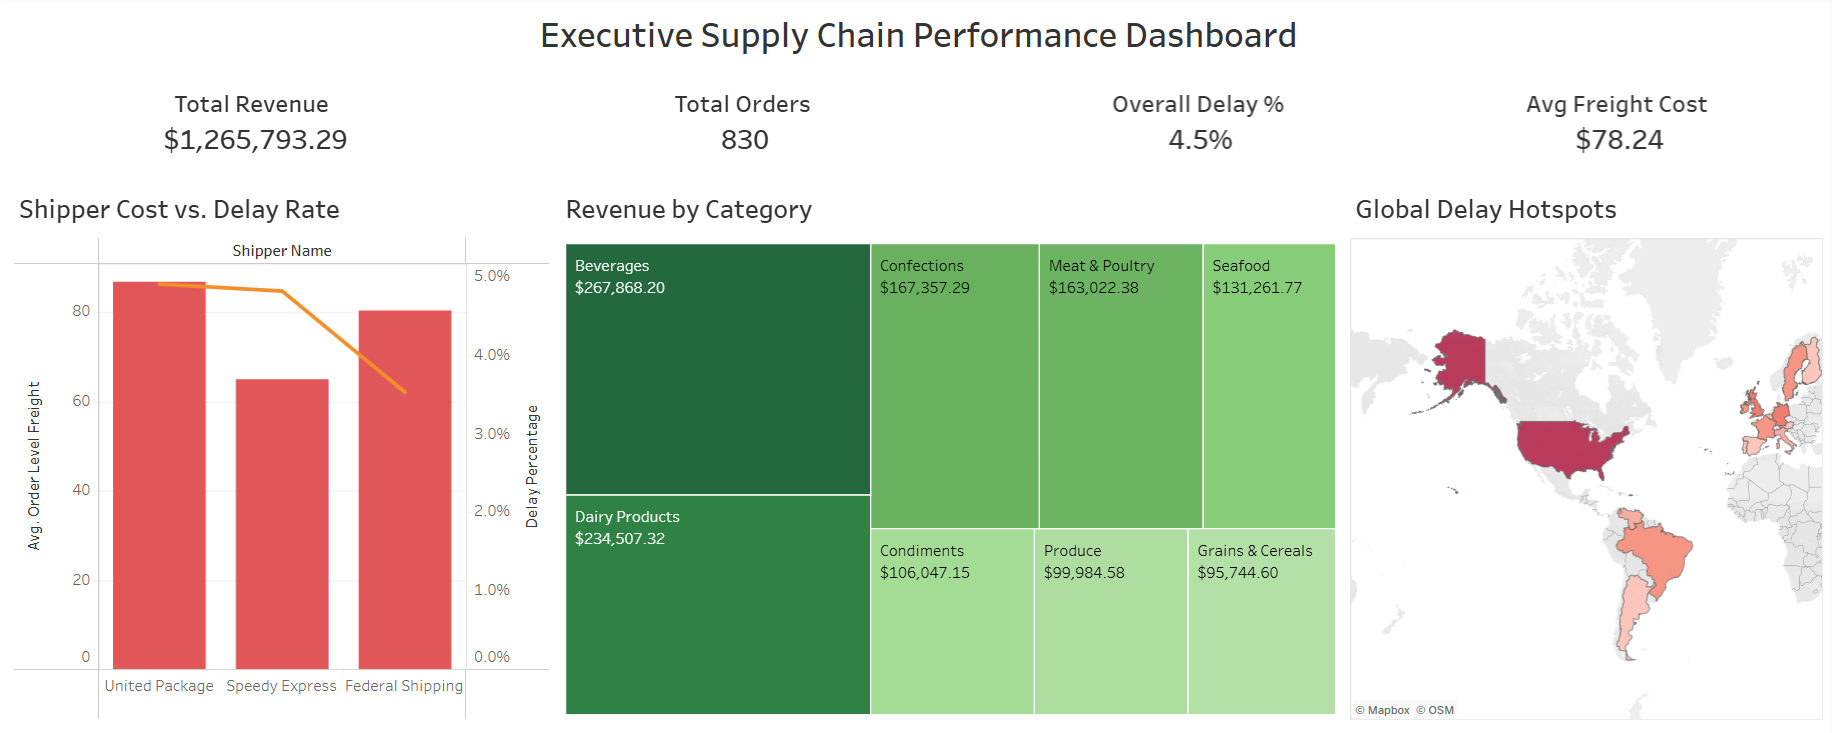

Layout of this report page (visuals, bound fields, positions):
{"tool":"tableau","page":{"name":"Final Dashboard","canvas":[1000,1000],"units":"permille","ordinal":0},"visuals":[{"type":"title","box":[6.1,14.6,987.8,84.1]},{"type":"worksheet","title":"KPI - Revenue","mark":"Automatic","box":[6.1,98.7,266.4,149.9]},{"type":"worksheet","title":"KPI - Orders","mark":"Automatic","box":[272.5,98.7,266.5,149.9]},{"type":"worksheet","title":"KPI - Delay Rate","mark":"Automatic","box":[539.1,98.7,227.7,149.9]},{"type":"worksheet","title":"KPI - Freight","mark":"Automatic","box":[766.8,98.7,227.1,149.9]},{"type":"worksheet","title":"Chart - Shipper","mark":"Automatic","rows":["freight","Calculation_0014625329938445"],"cols":["shipperName"],"box":[6.1,248.6,297,736.8]},{"type":"worksheet","title":"Chart - Treemap","mark":"Square","box":[303.1,248.6,428.8,736.8]},{"type":"worksheet","title":"Chart - Map","mark":"Multipolygon","box":[731.9,248.6,262,736.8]}]}

Visuals, with their boxes on the dashboard's canvas, which has no fixed pixel size, in thousandths of its width and height (x1, y1, x2, y2). These are canvas units, not pixel positions in the 1832x733 screenshot, which may show the page scaled, cropped or inside an application window:
title: pyautogui.locateOnScreen(6, 15, 994, 99)
"KPI - Revenue" worksheet: pyautogui.locateOnScreen(6, 99, 272, 249)
"KPI - Orders" worksheet: pyautogui.locateOnScreen(272, 99, 539, 249)
"KPI - Delay Rate" worksheet: pyautogui.locateOnScreen(539, 99, 767, 249)
"KPI - Freight" worksheet: pyautogui.locateOnScreen(767, 99, 994, 249)
"Chart - Shipper" worksheet: pyautogui.locateOnScreen(6, 249, 303, 985)
"Chart - Treemap" worksheet (Square marks): pyautogui.locateOnScreen(303, 249, 732, 985)
"Chart - Map" worksheet (Multipolygon marks): pyautogui.locateOnScreen(732, 249, 994, 985)
